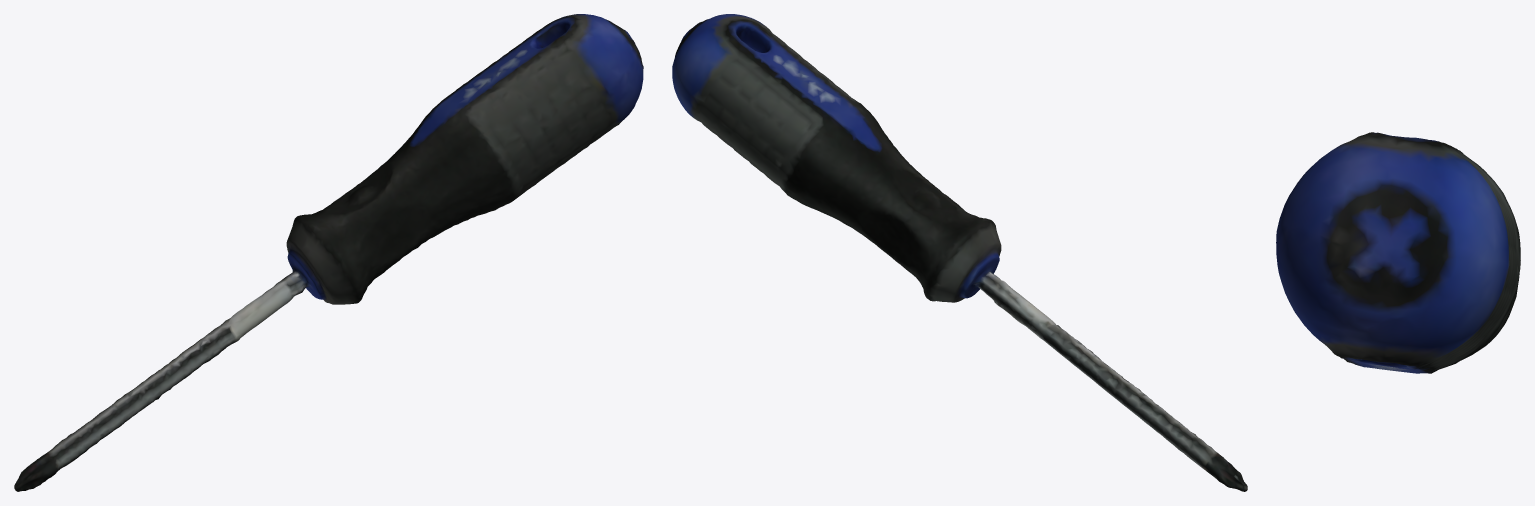
The picture shows the model from 3 angles, left to right: view 1: azimuth 30°, elevation 25°; view 2: azimuth 150°, elevation 25°; view 3: azimuth 270°, elevation 25°; orthographic projection. The views are drawn at different scales.
Bounding box in the file's own units: 0.1949 × 0.107 × 0.0355.
